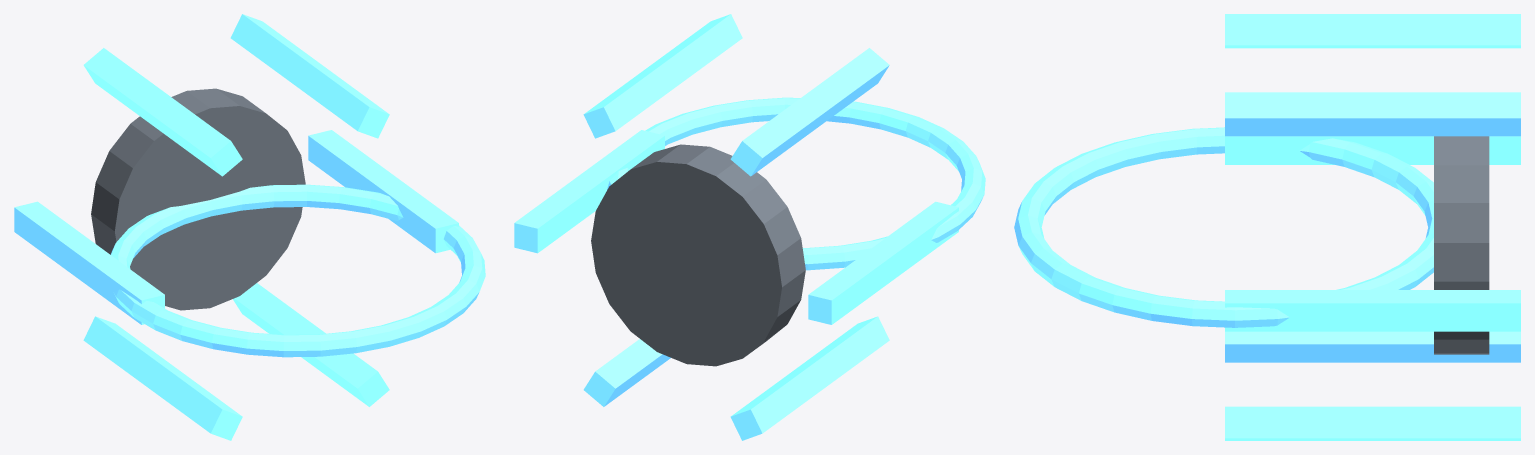
File: shield_03.glb
3 views of the same model, side by side, from view 1: azimuth 30°, elevation 25°; view 2: azimuth 150°, elevation 25°; view 3: azimuth 270°, elevation 25° (orthographic). The views are drawn at different scales.
Visible parts, largest first — view 1: emitter_base, top_ring, pylon2, pylon3, pylon4, pylon1, pylon0, pylon5; view 2: emitter_base, top_ring, pylon3, pylon2, pylon1, pylon4, pylon0, pylon5; view 3: top_ring, pylon1, pylon0, pylon2, pylon5, emitter_base, pylon4, pylon3.
Boxes of the visible parts, x1=… form: emitter_base: x1=91, y1=88, x2=305, y2=310; top_ring: x1=110, y1=184, x2=485, y2=357; pylon2: x1=83, y1=48, x2=242, y2=176; pylon3: x1=14, y1=201, x2=164, y2=324; pylon4: x1=83, y1=316, x2=242, y2=440; pylon1: x1=230, y1=14, x2=389, y2=138; pylon0: x1=308, y1=130, x2=458, y2=253; pylon5: x1=233, y1=283, x2=389, y2=406; emitter_base: x1=591, y1=144, x2=805, y2=366; top_ring: x1=607, y1=97, x2=985, y2=270; pylon3: x1=808, y1=201, x2=958, y2=324; pylon2: x1=730, y1=48, x2=889, y2=176; pylon1: x1=583, y1=14, x2=742, y2=138; pylon4: x1=730, y1=316, x2=889, y2=440; pylon0: x1=514, y1=130, x2=664, y2=253; pylon5: x1=583, y1=339, x2=670, y2=406; top_ring: x1=1014, y1=127, x2=1433, y2=327; pylon1: x1=1225, y1=92, x2=1520, y2=136; pylon0: x1=1225, y1=290, x2=1520, y2=331; pylon2: x1=1225, y1=14, x2=1520, y2=48; pylon5: x1=1225, y1=406, x2=1520, y2=440; emitter_base: x1=1434, y1=136, x2=1489, y2=354; pylon4: x1=1225, y1=331, x2=1520, y2=362; pylon3: x1=1225, y1=136, x2=1520, y2=164.
Bounding box in the file's own units: 2.24 × 1.95 × 2.57.
